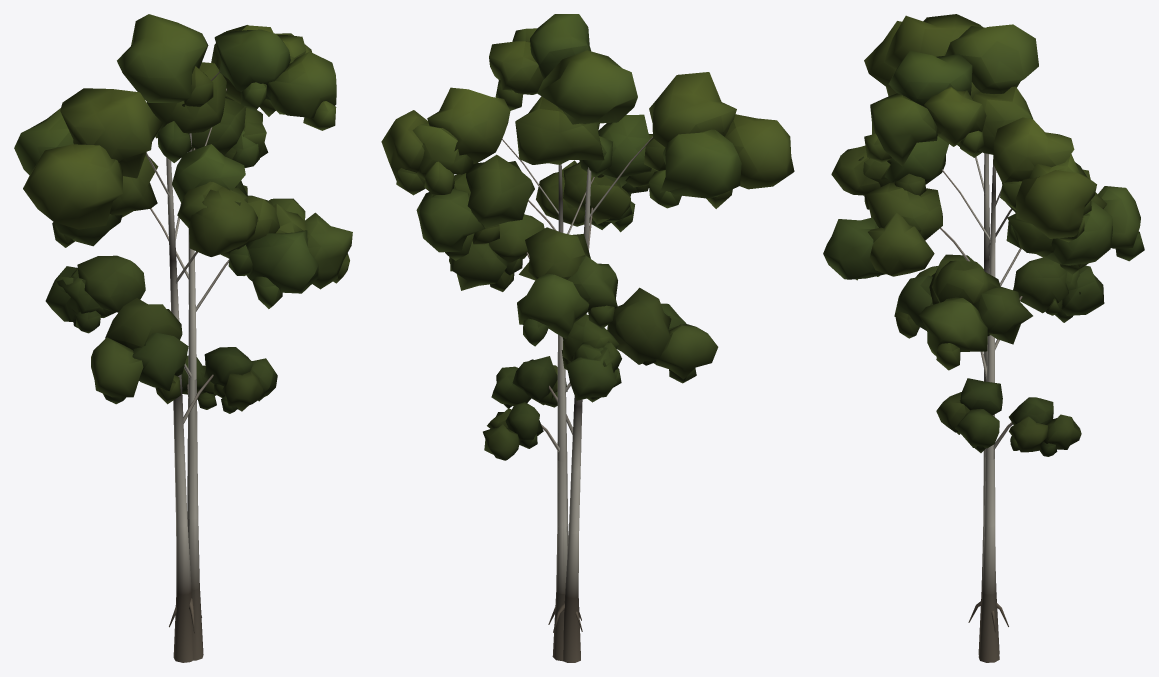
File: birch_d.glb
3 renders of one model, left to right at view 1: azimuth 30°, elevation 25°; view 2: azimuth 150°, elevation 25°; view 3: azimuth 270°, elevation 25°, orthographic. The views are drawn at different scales.
Visible parts, largest first — view 1: LOD0; view 2: LOD0; view 3: LOD0.
Part boxes in pixels (<box>): LOD0: <box>14,14,352,662</box>; LOD0: <box>381,14,794,662</box>; LOD0: <box>823,14,1144,662</box>.
Size of what is drawn, in the model's own units: 7.13 by 12.2 by 5.74.
